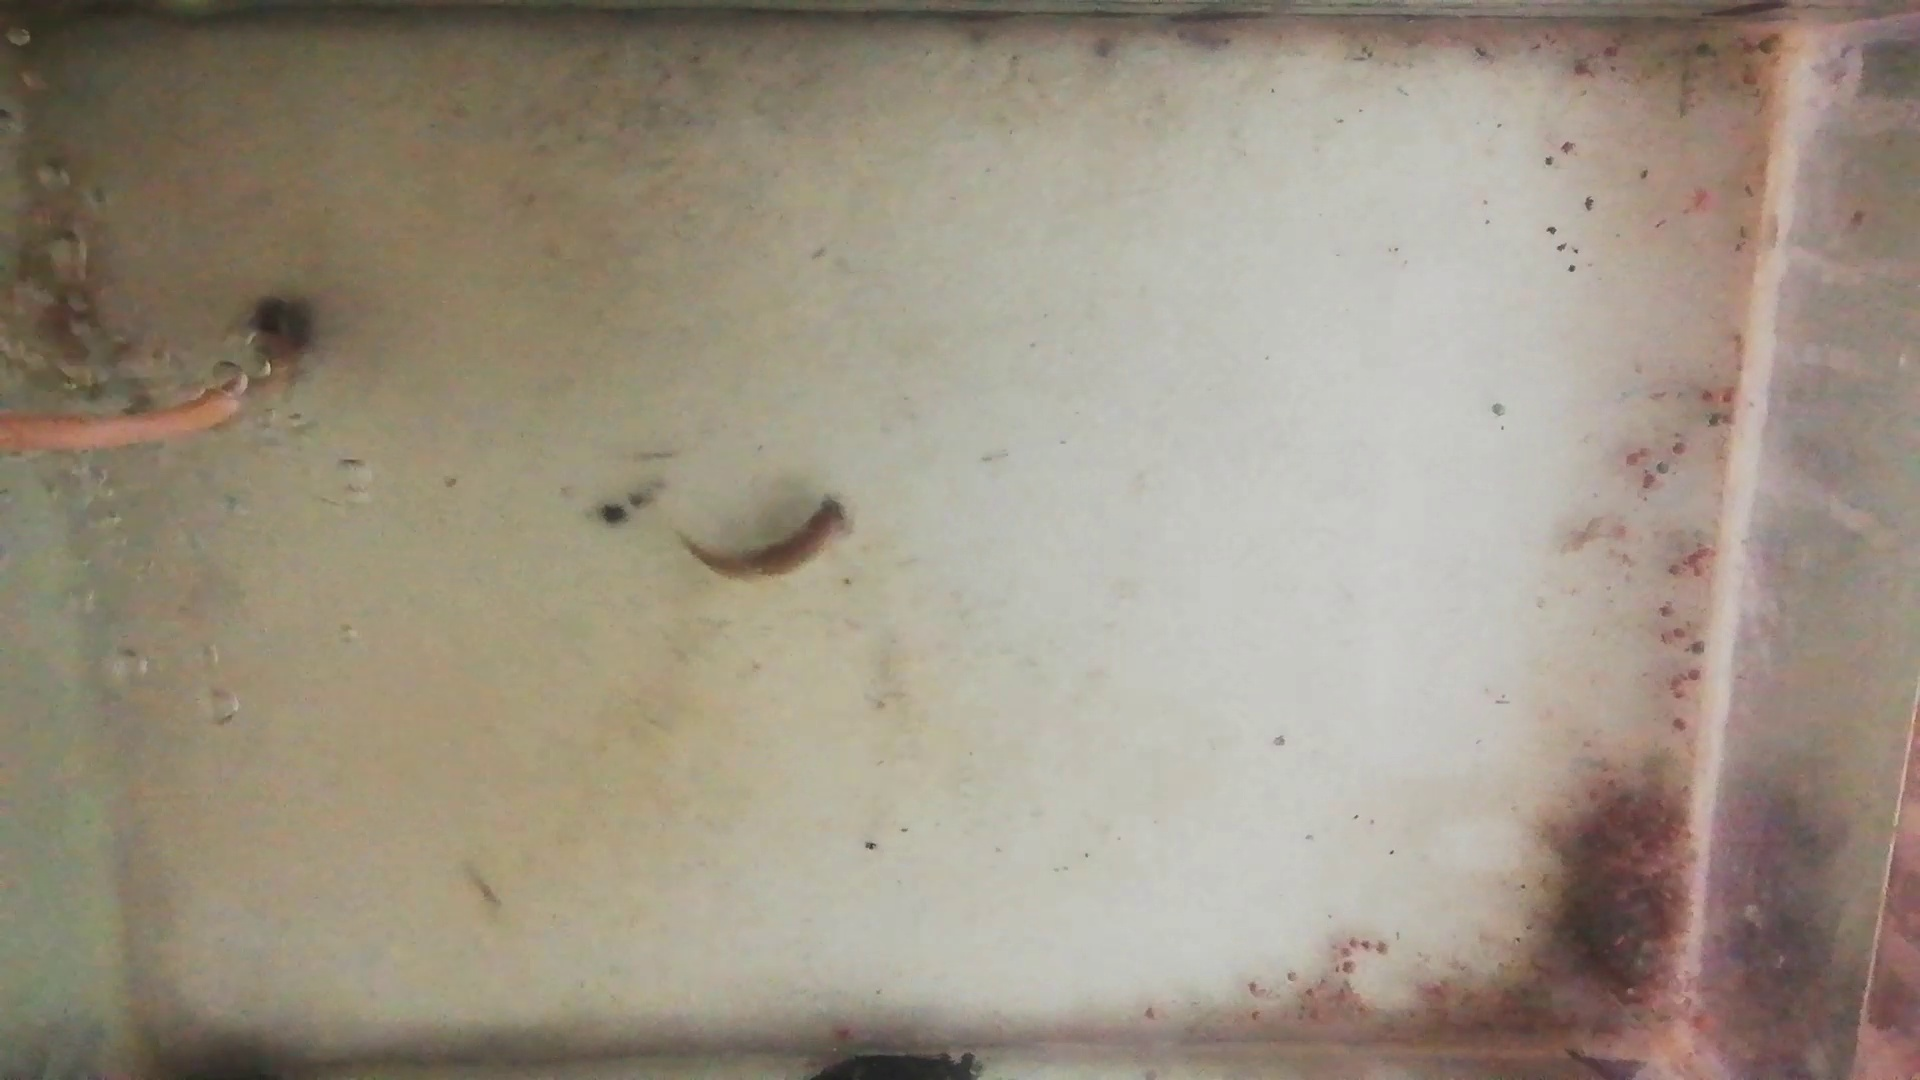fish: (26, 207, 137, 406), (678, 498, 857, 585)
